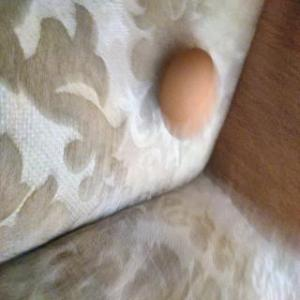egg: (158, 46, 218, 144)
